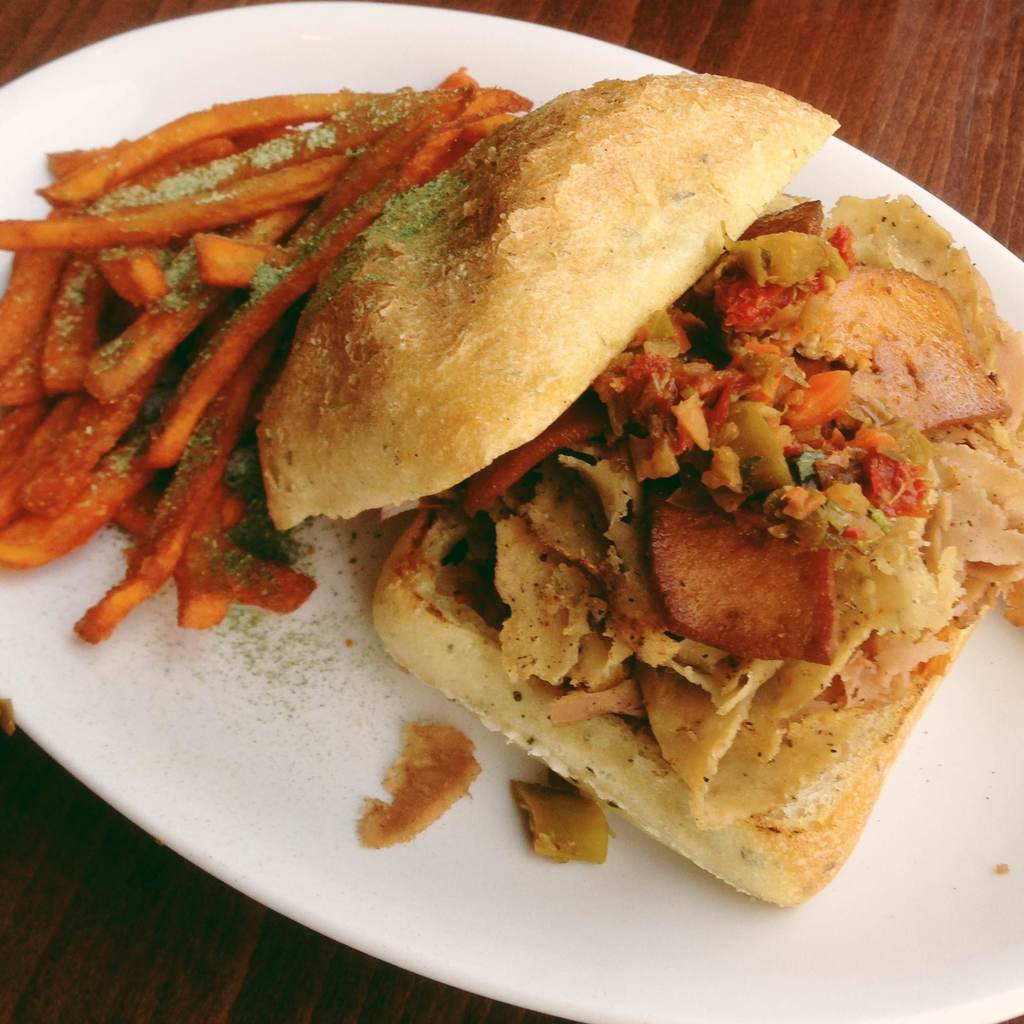Hamburger: (257, 77, 1023, 910)
